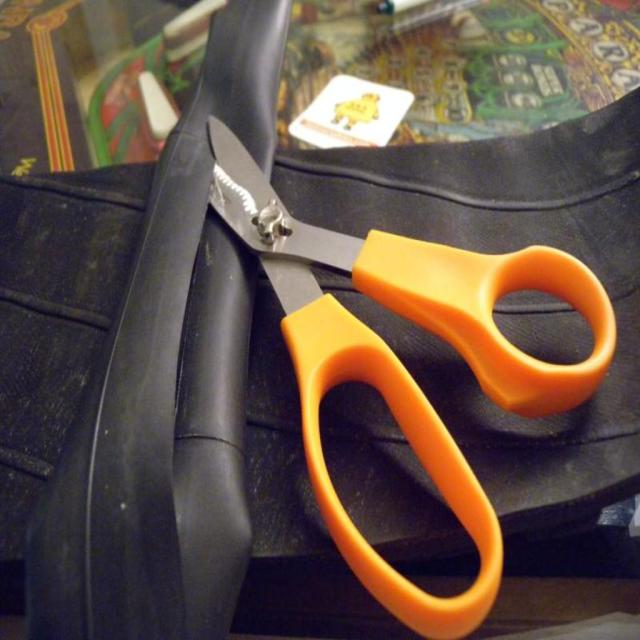scissors: (172, 102, 618, 640)
